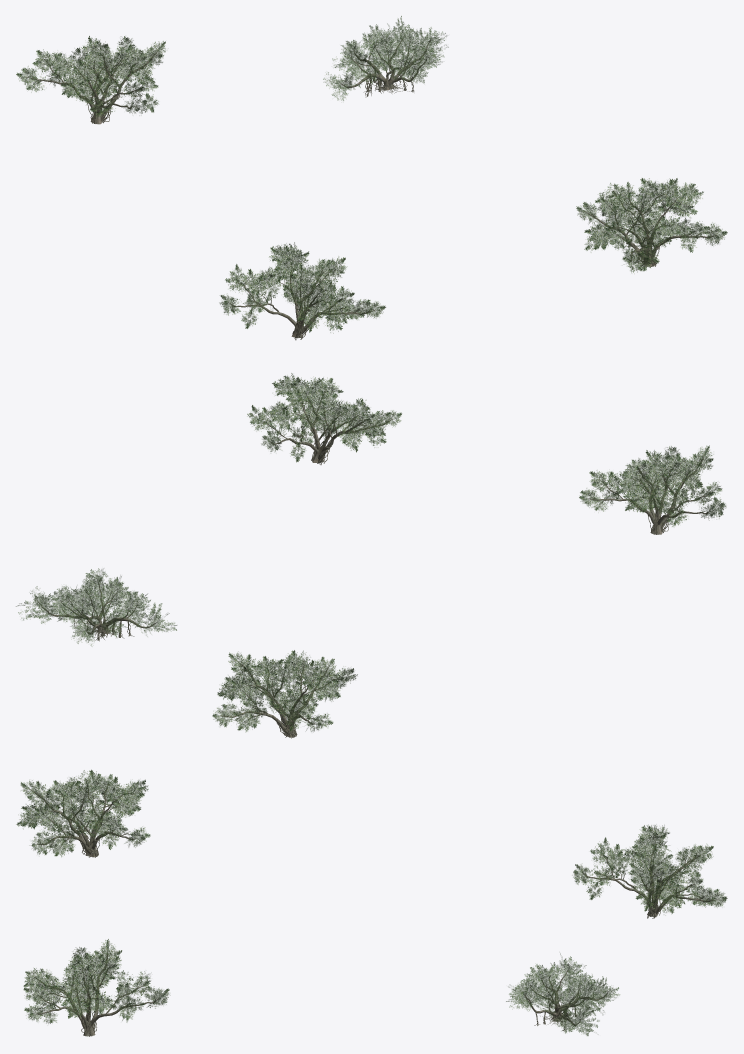
The model's file is banyan_trees.glb.
3 views of the same model, one above another, from view 1: azimuth 30°, elevation 25°; view 2: azimuth 150°, elevation 25°; view 3: azimuth 270°, elevation 25° (orthographic). The views are drawn at different scales.
Visible parts, largest first — view 1: Chinese_Banyan_Tree__S8, Chinese_Banyan_Tree__S8_Banyan_Leaves_1_Mat_0.001, Chinese_Banyan_Tree__S8_Banyan_Leaves_1_Mat_0.002, Chinese_Banyan_Tree_S7, Chinese_Banyan_Tree__S8_Banyan_Bark_Mat_0.002, Chinese_Banyan_Tree__S8_Banyan_Bark_Mat_0.001; view 2: Chinese_Banyan_Tree__S8_Banyan_Leaves_1_Mat_0.002, Chinese_Banyan_Tree__S8, Chinese_Banyan_Tree__S8_Banyan_Leaves_1_Mat_0.001, Chinese_Banyan_Tree_S7, Chinese_Banyan_Tree__S8_Banyan_Bark_Mat_0.001, Chinese_Banyan_Tree__S8_Banyan_Bark_Mat_0.002; view 3: Chinese_Banyan_Tree__S8_Banyan_Leaves_1_Mat_0.001, Chinese_Banyan_Tree__S8, Chinese_Banyan_Tree__S8_Banyan_Leaves_1_Mat_0.002, Chinese_Banyan_Tree_S7, Chinese_Banyan_Tree__S8_Banyan_Bark_Mat_0.001, Chinese_Banyan_Tree__S8_Banyan_Bark_Mat_0.002.
Part boxes in pixels (bbox=[...]): Chinese_Banyan_Tree__S8: bbox=[576, 178, 727, 273]; Chinese_Banyan_Tree__S8_Banyan_Leaves_1_Mat_0.001: bbox=[219, 242, 385, 333]; Chinese_Banyan_Tree__S8_Banyan_Leaves_1_Mat_0.002: bbox=[16, 36, 165, 117]; Chinese_Banyan_Tree_S7: bbox=[323, 16, 448, 100]; Chinese_Banyan_Tree__S8_Banyan_Bark_Mat_0.002: bbox=[27, 45, 158, 124]; Chinese_Banyan_Tree__S8_Banyan_Bark_Mat_0.001: bbox=[227, 256, 374, 340]; Chinese_Banyan_Tree__S8_Banyan_Leaves_1_Mat_0.002: bbox=[212, 650, 357, 732]; Chinese_Banyan_Tree__S8: bbox=[247, 373, 401, 464]; Chinese_Banyan_Tree__S8_Banyan_Leaves_1_Mat_0.001: bbox=[579, 445, 726, 526]; Chinese_Banyan_Tree_S7: bbox=[16, 568, 176, 646]; Chinese_Banyan_Tree__S8_Banyan_Bark_Mat_0.001: bbox=[588, 454, 716, 534]; Chinese_Banyan_Tree__S8_Banyan_Bark_Mat_0.002: bbox=[220, 658, 348, 738]; Chinese_Banyan_Tree__S8_Banyan_Leaves_1_Mat_0.001: bbox=[16, 769, 150, 857]; Chinese_Banyan_Tree__S8: bbox=[23, 939, 170, 1036]; Chinese_Banyan_Tree__S8_Banyan_Leaves_1_Mat_0.002: bbox=[572, 824, 727, 915]; Chinese_Banyan_Tree_S7: bbox=[506, 953, 619, 1035]; Chinese_Banyan_Tree__S8_Banyan_Bark_Mat_0.001: bbox=[29, 779, 138, 857]; Chinese_Banyan_Tree__S8_Banyan_Bark_Mat_0.002: bbox=[581, 838, 718, 918].
Size of the model in its own units: 76.57 by 16.29 by 102.
Materials: 4 (4 with a texture image).
